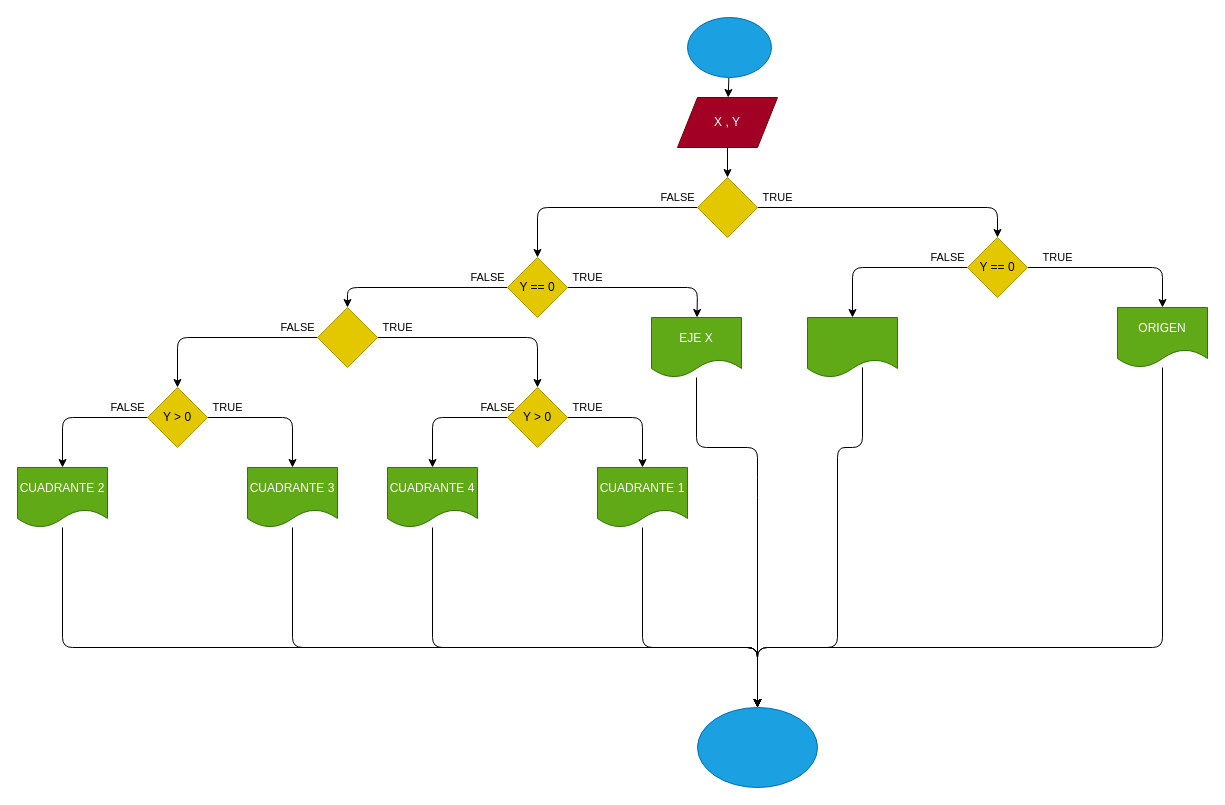
Image size: 1225x805. Some labels were removed from this diagram. Each missing label, with the centre of its shape:
EJE Y: point (852, 347)
FIN: point (757, 747)
INCIO: point (729, 47)
X == 0: point (727, 207)
X > 0: point (347, 337)
